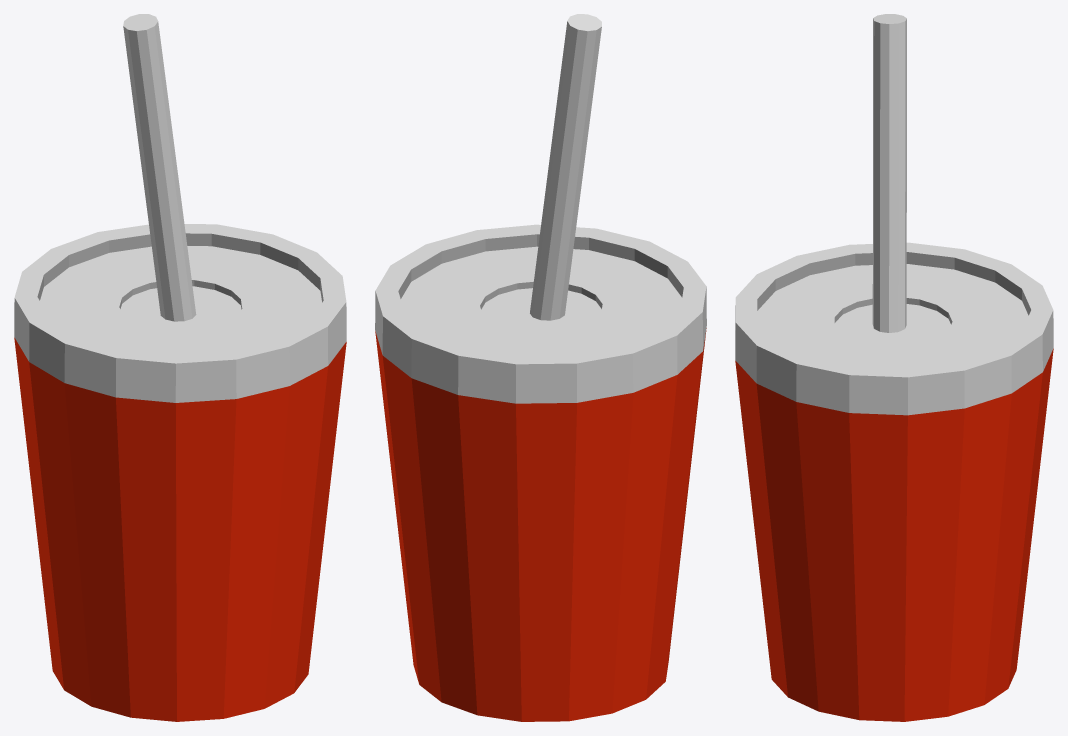
The model's file is coffe.fbx.
3 views of the same model, side by side, from view 1: azimuth 30°, elevation 25°; view 2: azimuth 150°, elevation 25°; view 3: azimuth 270°, elevation 25° (orthographic). The views are drawn at different scales.
Visible parts, largest first — view 1: Cylinder, Cylinder.001; view 2: Cylinder, Cylinder.001; view 3: Cylinder, Cylinder.001.
Boxes of the visible parts, x1,y1,x2,y2 form: Cylinder: (14, 224, 346, 721); Cylinder.001: (123, 14, 196, 321); Cylinder: (375, 224, 706, 721); Cylinder.001: (530, 14, 601, 320); Cylinder: (735, 242, 1053, 721); Cylinder.001: (872, 14, 906, 332).
Size of the model in its own units: 319 by 696 by 317.
